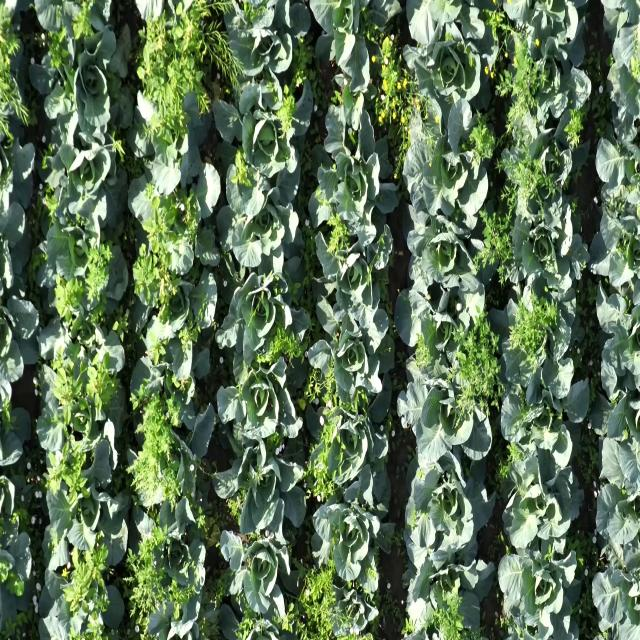holes: (214, 72, 318, 208), (391, 263, 493, 375), (133, 77, 217, 183), (602, 0, 640, 143)
